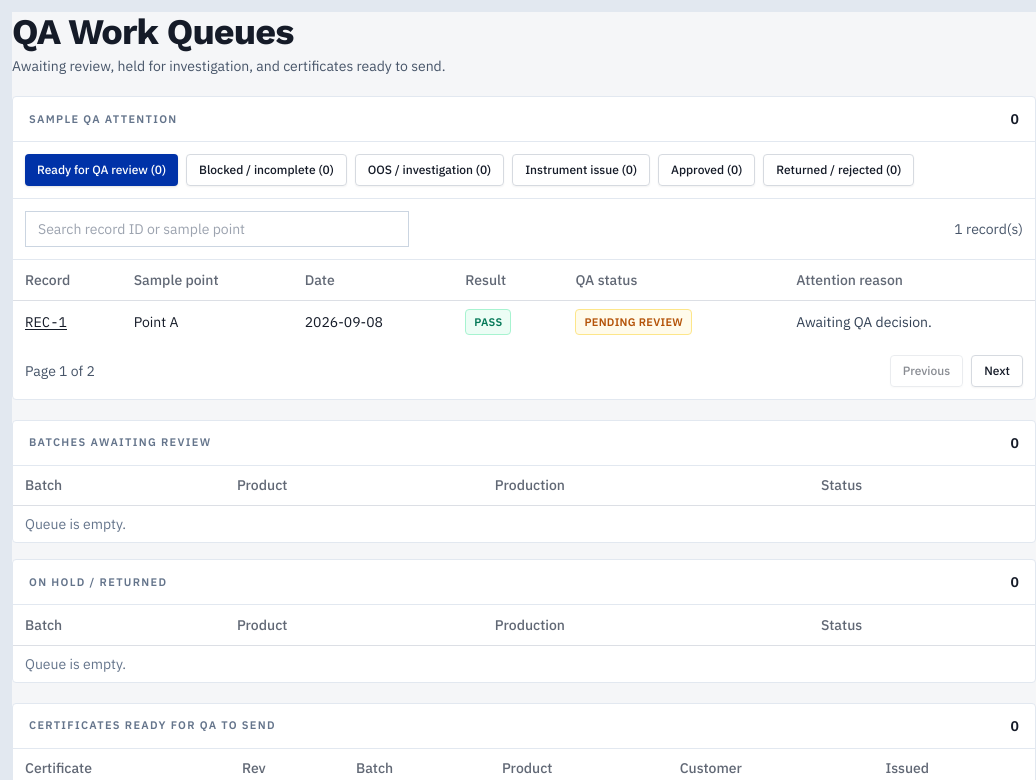
Test: QAQueues component › keeps prior data and shows an inline error when a later request fails
This screenshot has width=1036, height=780.
Expected: the row with test id "sample-qa-queue-row-REC-1" is shown, [13, 300, 1035, 342]
Click the button with test id "sample-qa-next-button" at coordinates (997, 370), box [971, 354, 1023, 386]
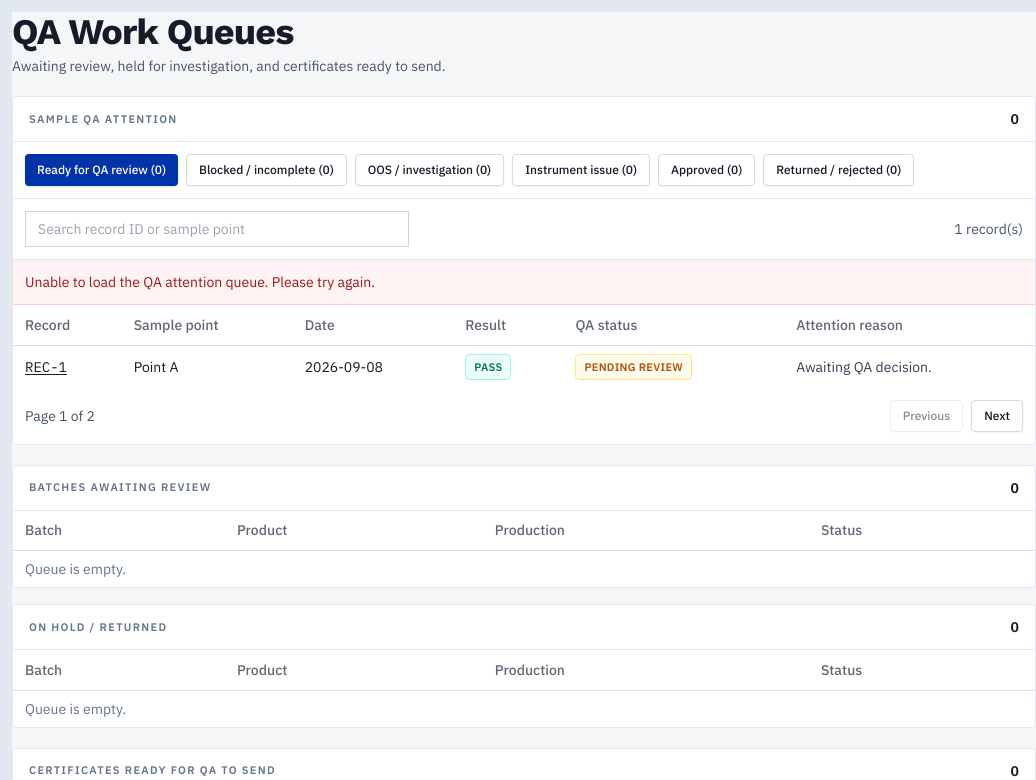
Expected: the row with test id "sample-qa-queue-row-REC-1" is shown, [13, 345, 1035, 388]
Result: the text "Unable to load the QA attention queue. Please try again." is shown at [13, 260, 1035, 305]
